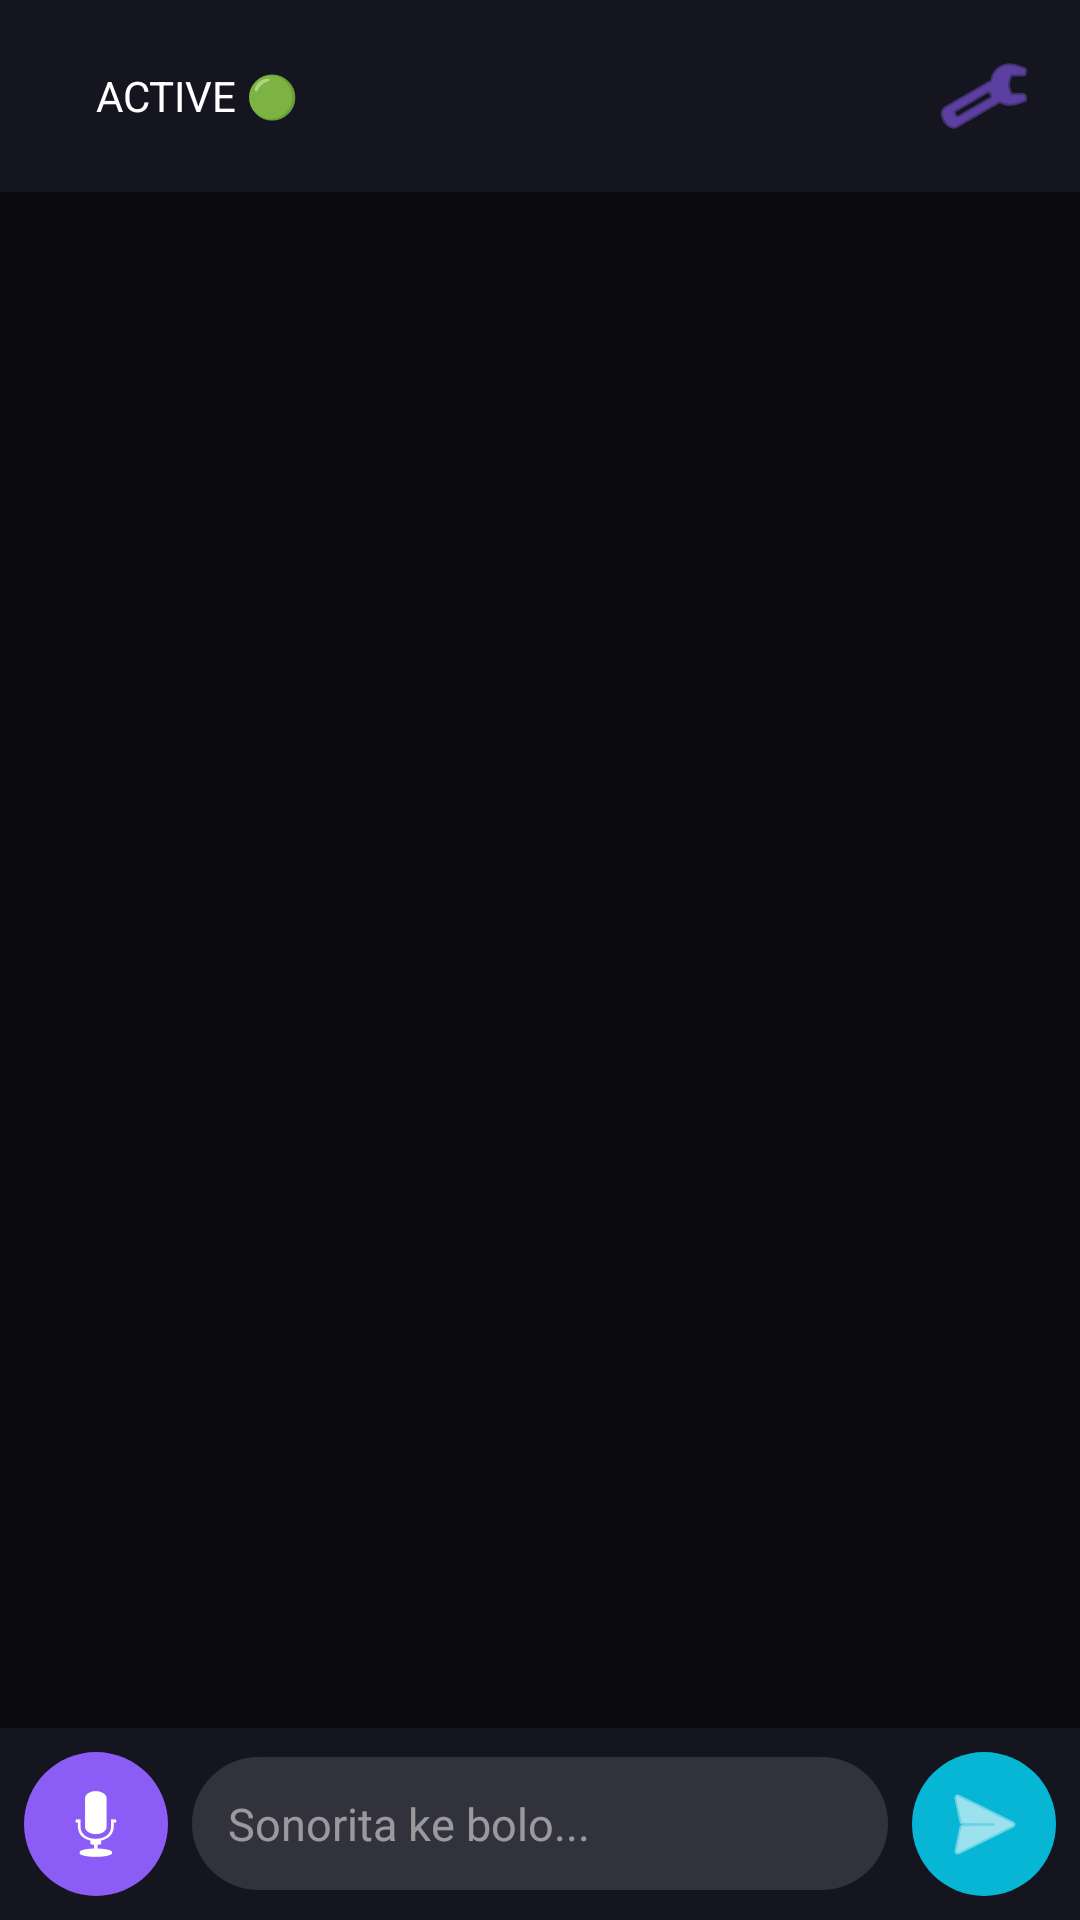

Screen size 1080x1920. Icon name, then its center in pixels as point (x, y):
Send: point (984, 1824)
Settings: point (984, 96)
Voice: point (96, 1824)
